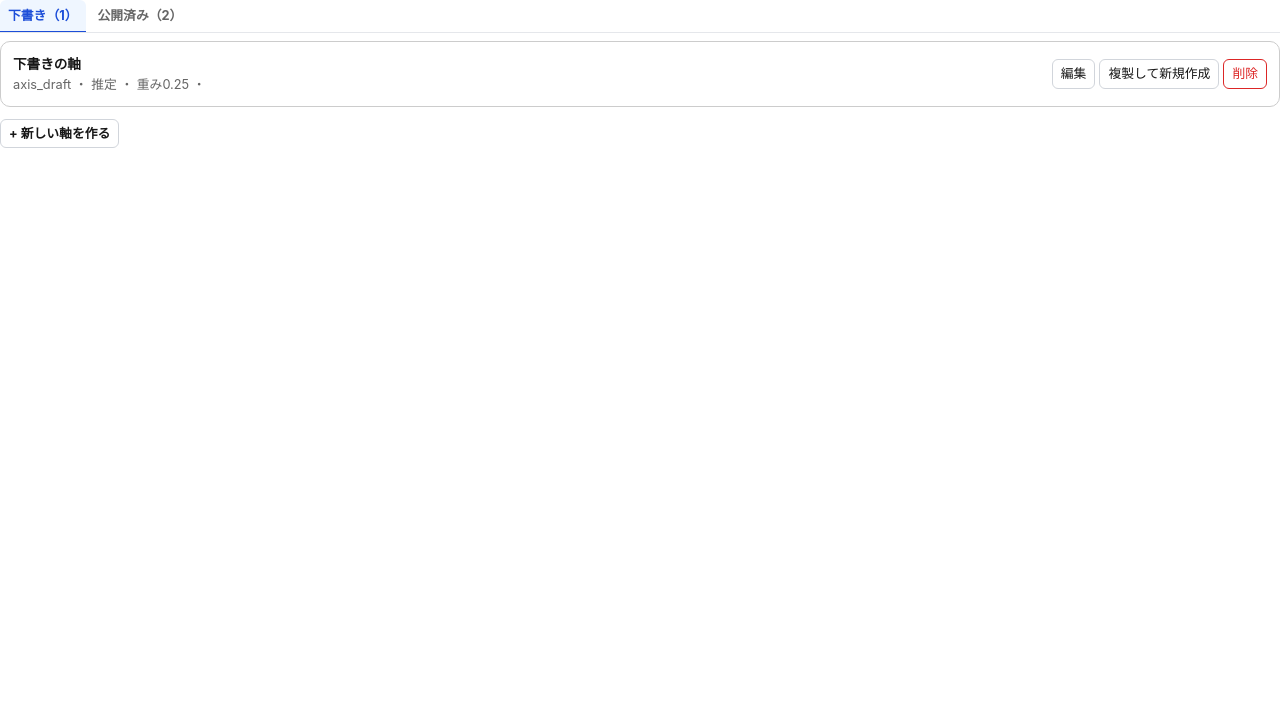
Scenario: フォームを開くモード › 下書きの軸の編集は、その軸の編集として開き、ほかの軸には一覧の全部を渡す
Expected: the tab "公開済み（2）" is shown, [90,0,190,33]
Step 1. Click the button "編集" → (1074, 74), box [1052,59,1095,89]
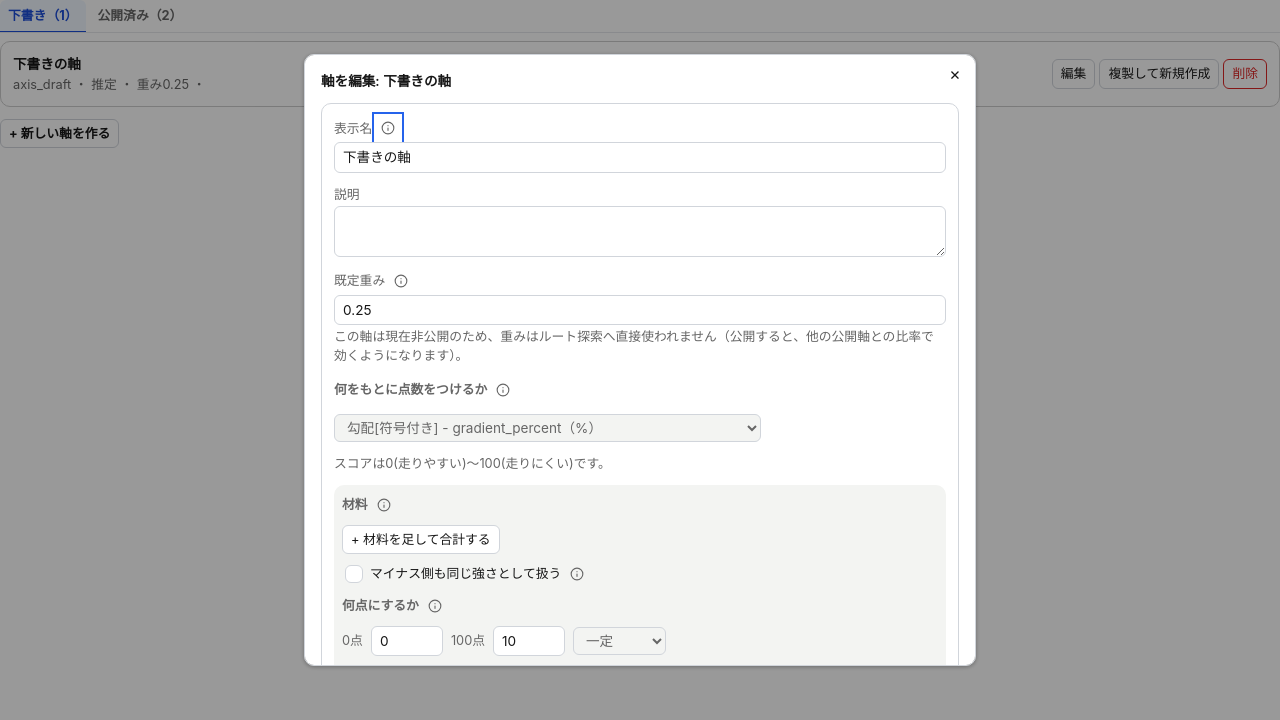
Expected: the dialog "軸を編集: 下書きの軸" is shown, [304,54,976,666]
Expected: the field named "表示名" holds "下書きの軸", [334,142,946,173]
